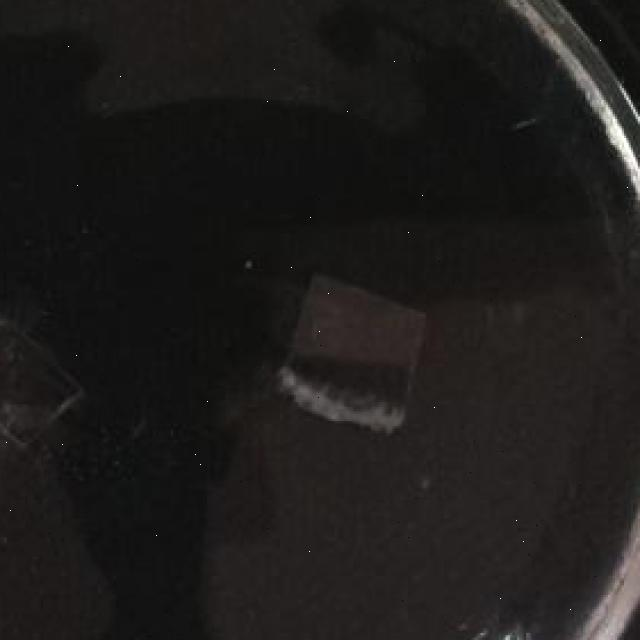Microplastic: (271, 262, 426, 438), (0, 307, 82, 450)
